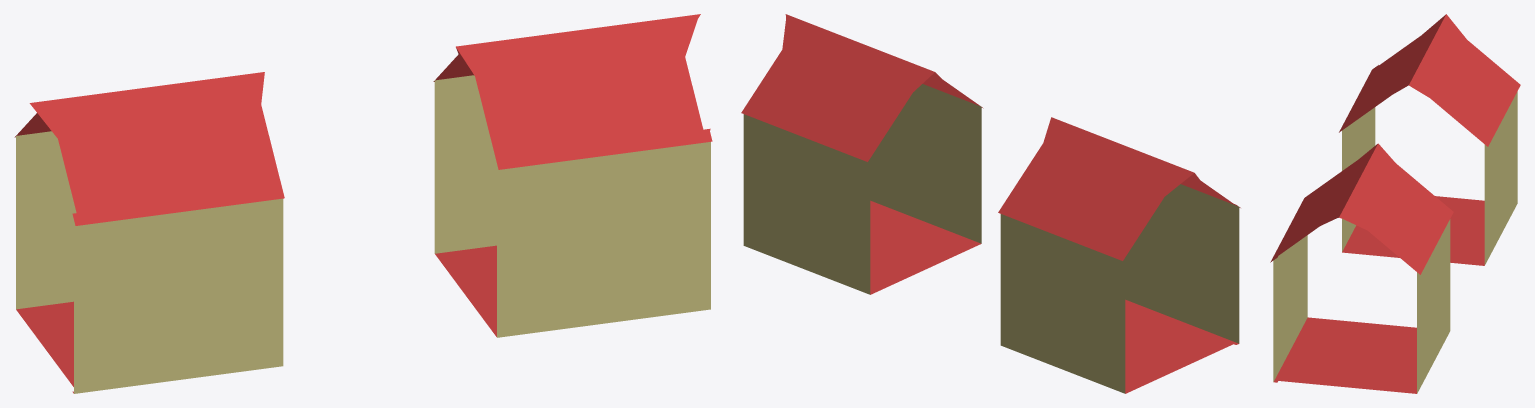
The picture shows the model from 3 angles, left to right: view 1: azimuth 30°, elevation 25°; view 2: azimuth 150°, elevation 25°; view 3: azimuth 270°, elevation 25°; orthographic projection. The views are drawn at different scales.
Size of the model in its own units: 35.43 by 18.22 by 14.2.
